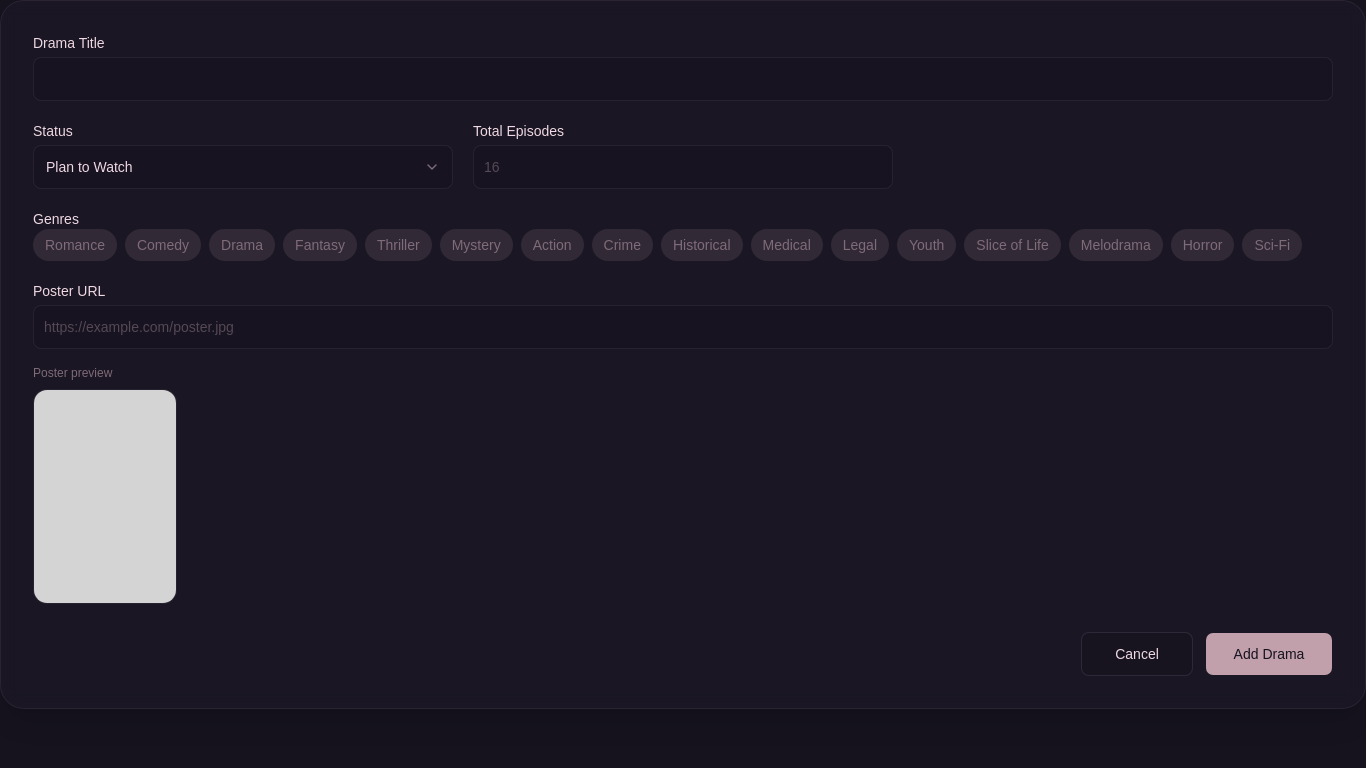
DramaForm validation › shows an inline title error instead of using alert
Click the button "Add Drama" at [1269, 654], box [1205,632,1333,676]
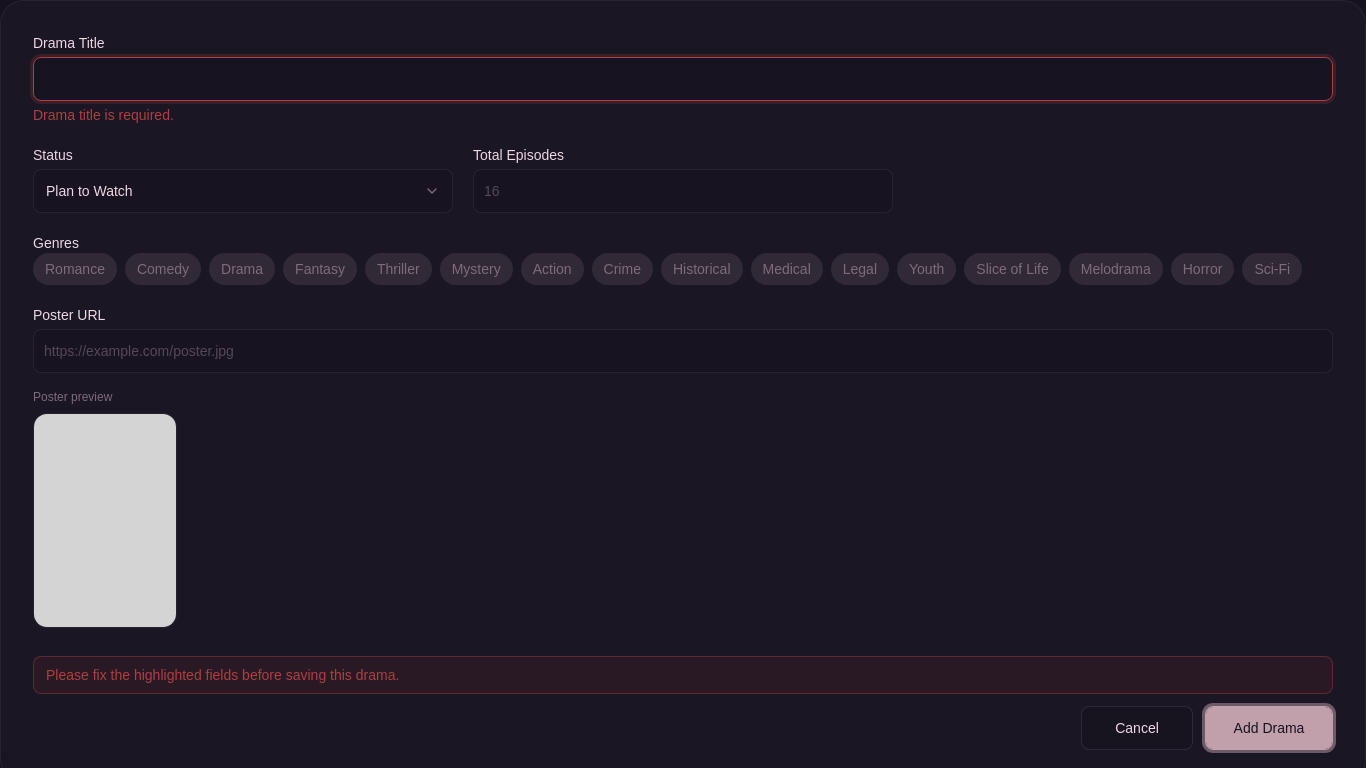
Check: the text "Drama title is required." is shown, box [33,107,174,123]
Check: the message reads "Please fix the highlighted fields before saving this drama.", box [46,667,399,683]
